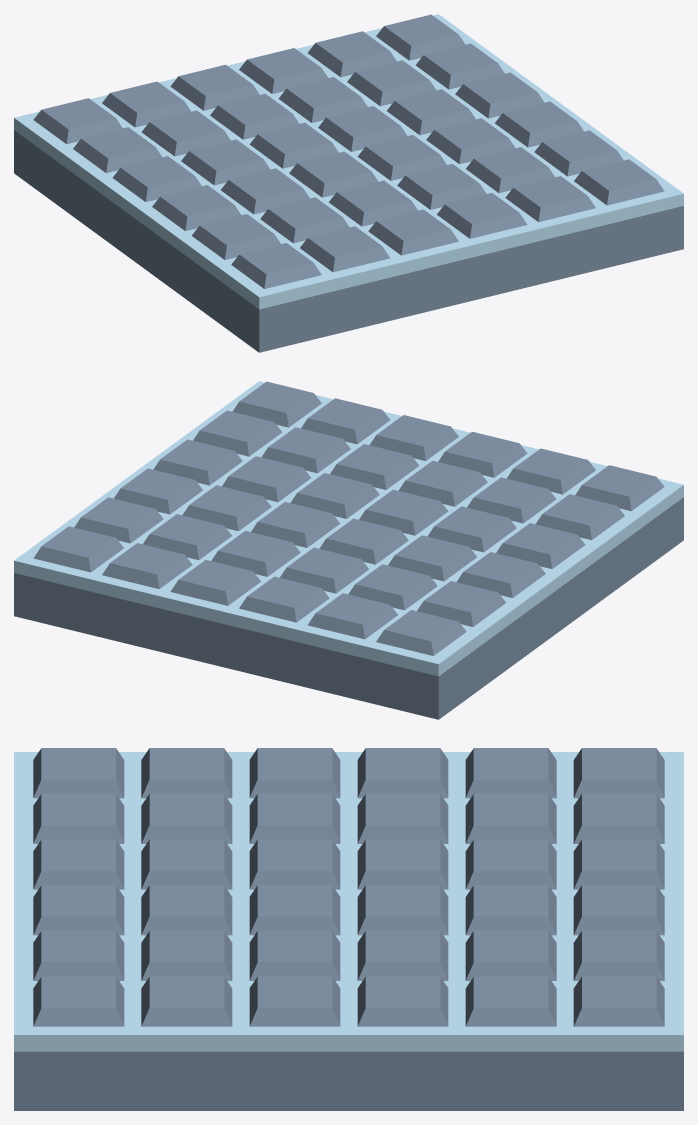
Rendered from Floor Tiles.glb.
3 renders of one model, top to bottom at view 1: azimuth 30°, elevation 25°; view 2: azimuth 150°, elevation 25°; view 3: azimuth 270°, elevation 25°, orthographic. The views are drawn at different scales.
Parts seen in each view (by area): view 1: Floor_Tiles; view 2: Floor_Tiles; view 3: Floor_Tiles.
Boxes of the visible parts, box(x1,y1,x2,y2) form: Floor_Tiles: box(14, 14, 683, 352); Floor_Tiles: box(14, 381, 683, 719); Floor_Tiles: box(14, 748, 683, 1110).
Size of the model in its own units: 4 by 0.6009 by 4.
Materials: 1 (1 with a texture image).
